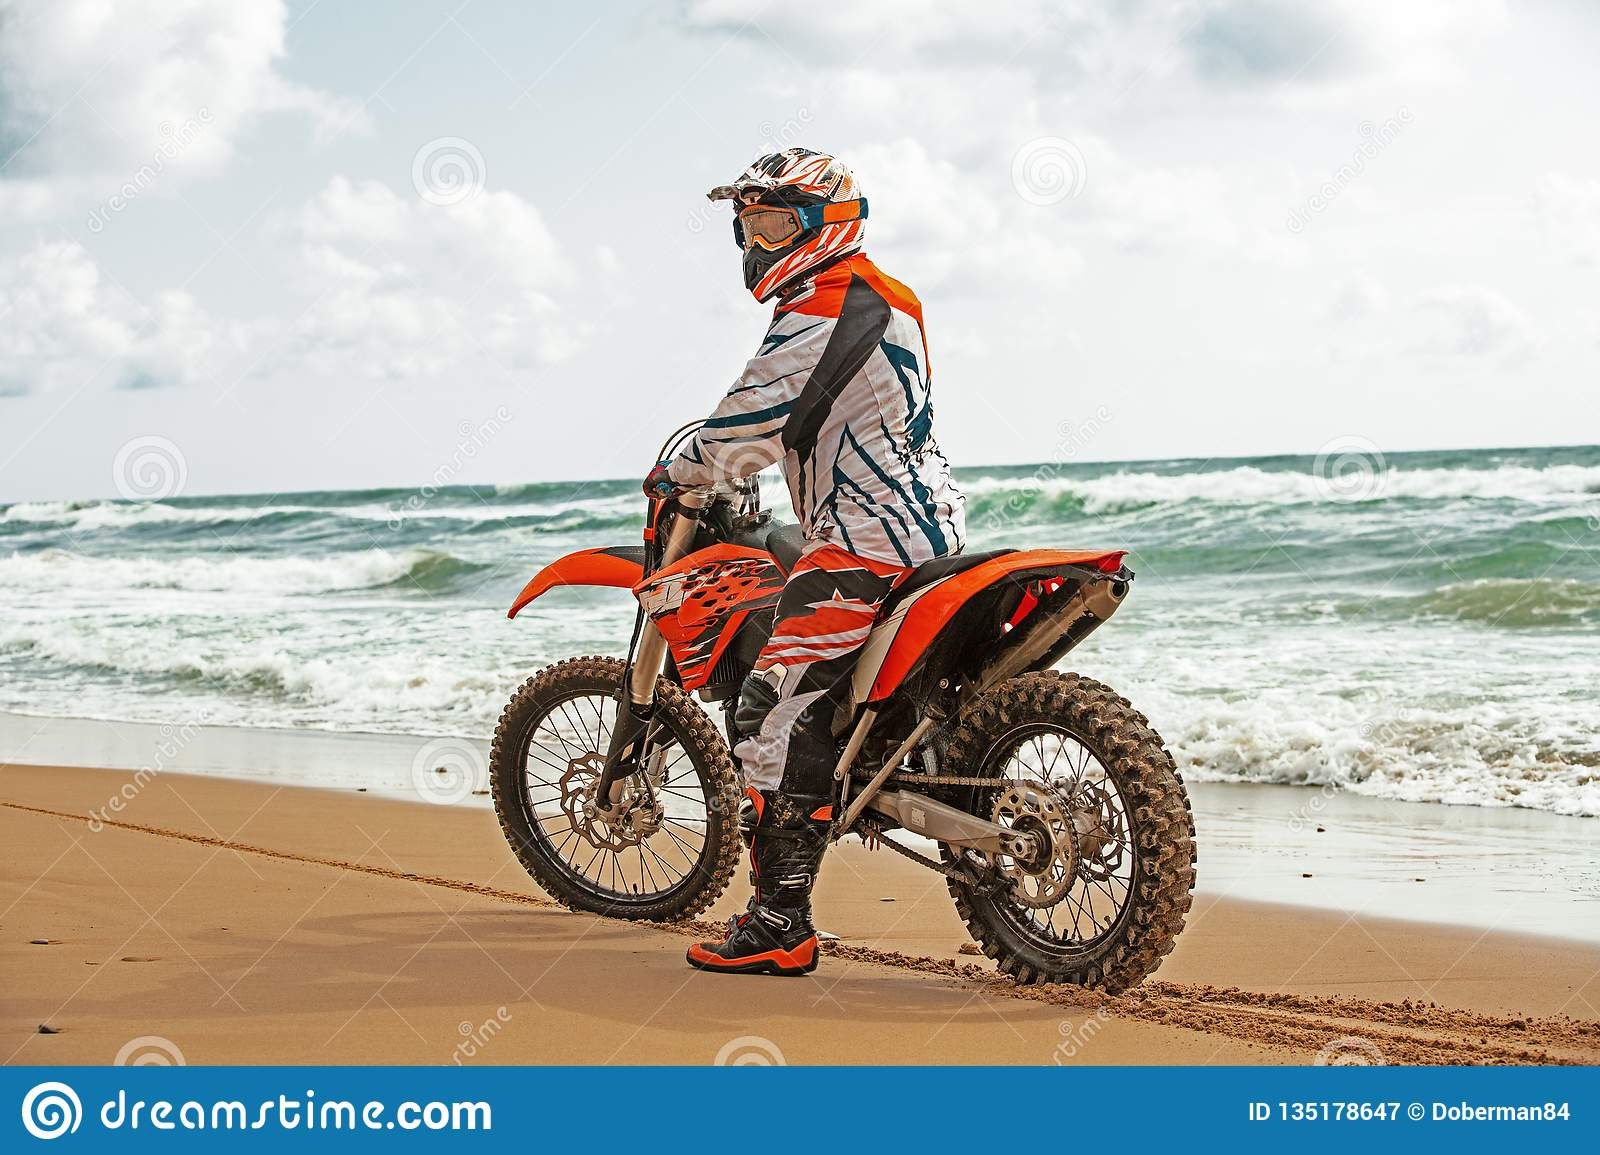helmet: (716, 137, 880, 304)
